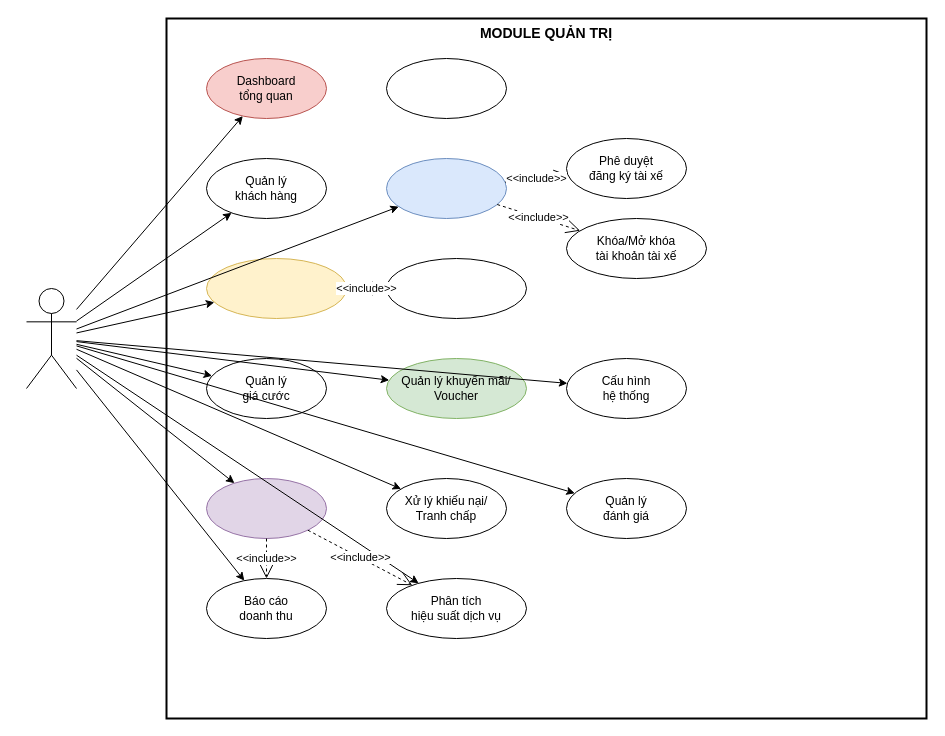
Image size: 945x736. Some labels were removed from this diagram. The box of each missing label's shape, as (x1, y1, x2, y2) in pixels:
Phê duyệt đăng ký nhà hàng: (386, 258, 526, 318)
Quản lý nhà hàng/Đối tác: (206, 258, 346, 318)
Quản lý tài xế: (386, 158, 506, 218)
Quản trị viên: (26, 288, 76, 388)
Theo dõi đơn hàng real-time: (386, 58, 506, 118)
Xem báo cáo thống kê: (206, 478, 326, 538)
